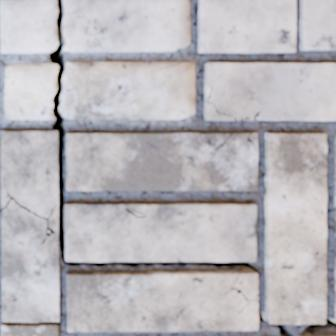brick: (265, 133, 326, 323), (67, 271, 258, 331), (65, 203, 256, 260), (66, 133, 257, 190), (1, 202, 58, 335), (205, 63, 335, 119), (198, 0, 295, 52), (1, 131, 57, 216), (300, 0, 335, 49), (235, 272, 257, 298), (251, 133, 257, 146)
broken_brick: (61, 61, 195, 120), (65, 0, 190, 53), (4, 62, 57, 120), (0, 0, 56, 54)
crack: (1, 0, 294, 335), (206, 81, 261, 121), (201, 132, 232, 169), (299, 317, 335, 335), (157, 62, 180, 71), (247, 132, 257, 152), (252, 158, 256, 162)
